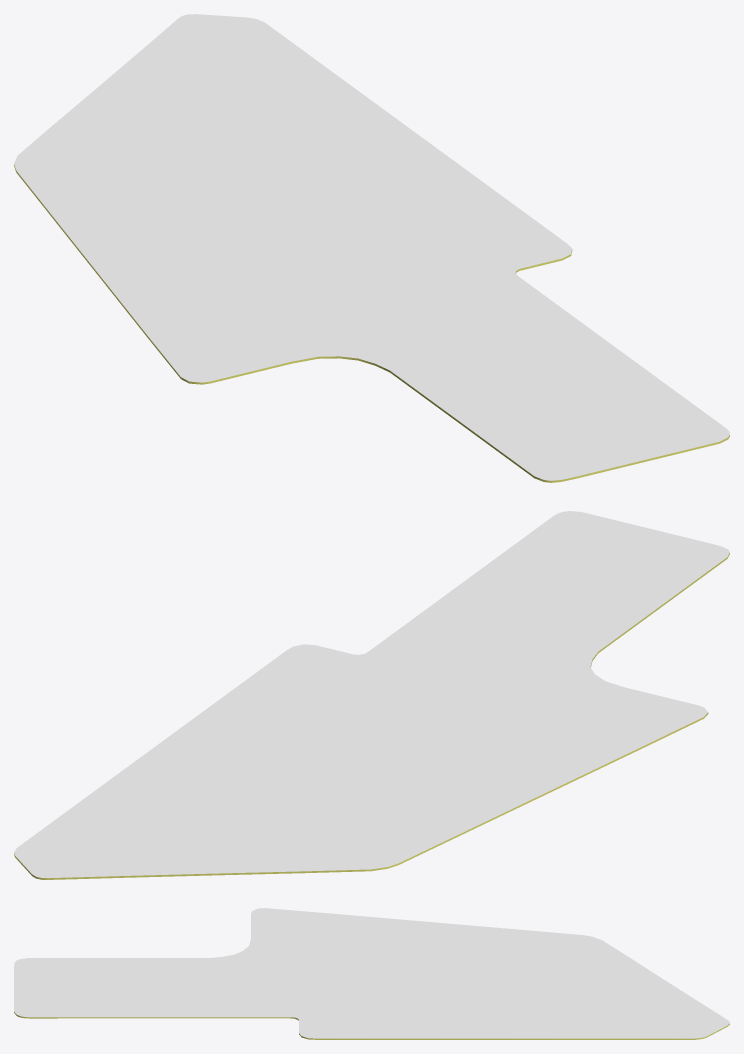
The picture shows the model from 3 angles, top to bottom: view 1: azimuth 30°, elevation 25°; view 2: azimuth 150°, elevation 25°; view 3: azimuth 270°, elevation 25°; orthographic projection. The views are drawn at different scales.
Visible parts, largest first — view 1: 13710a.dat; view 2: 13710a.dat; view 3: 13710a.dat.
Part boxes in pixels (left/top/right/bottom): 13710a.dat: left=14, top=14, right=729, bottom=482; 13710a.dat: left=14, top=511, right=729, bottom=879; 13710a.dat: left=14, top=908, right=729, bottom=1039.
Bounding box in the file's own units: 0.022 × 0.0001 × 0.051.
